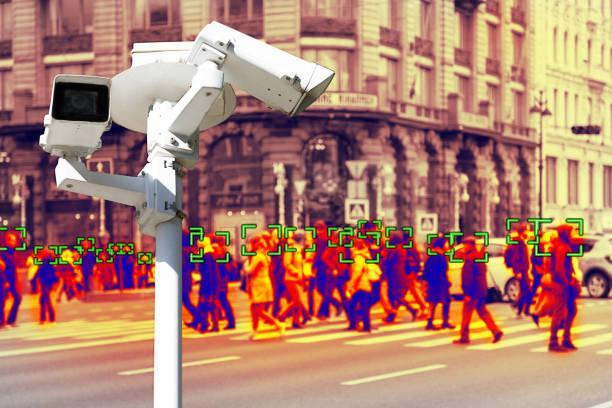camera: (162, 19, 351, 149), (9, 58, 130, 187)
